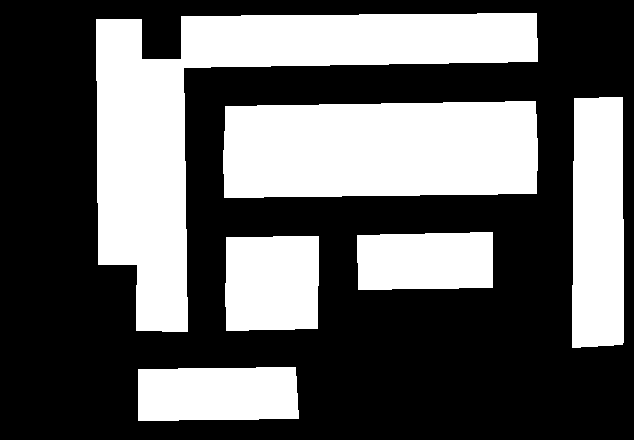parkingspot: (181, 13, 537, 67), (224, 101, 537, 155), (223, 147, 537, 197), (136, 59, 187, 331), (572, 97, 623, 347), (96, 19, 141, 264), (138, 367, 298, 420), (357, 232, 492, 289), (225, 279, 317, 330), (226, 236, 318, 286)
